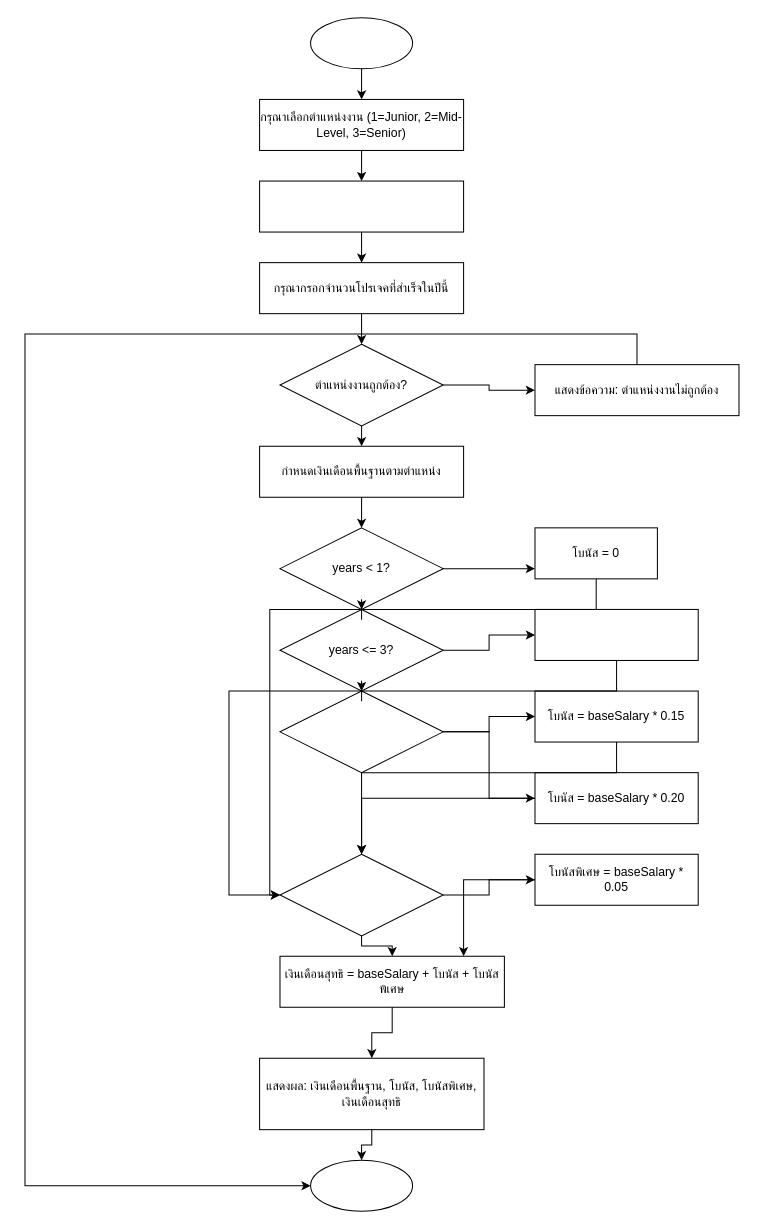
Image size: 757x1229. Some labels were removed from this diagram. The box of each missing label's shape, as (x1, y1, x2, y2) in pixels:
projects > 5?: (279, 853, 443, 936)
Start: (310, 17, 413, 69)
Stop: (310, 1159, 413, 1211)
years <= 5?: (279, 690, 443, 773)
กรุณากรอกจำนวนปีที่ทำงาน: (259, 180, 464, 232)
โบนัส = baseSalary * 0.10: (534, 608, 698, 660)
